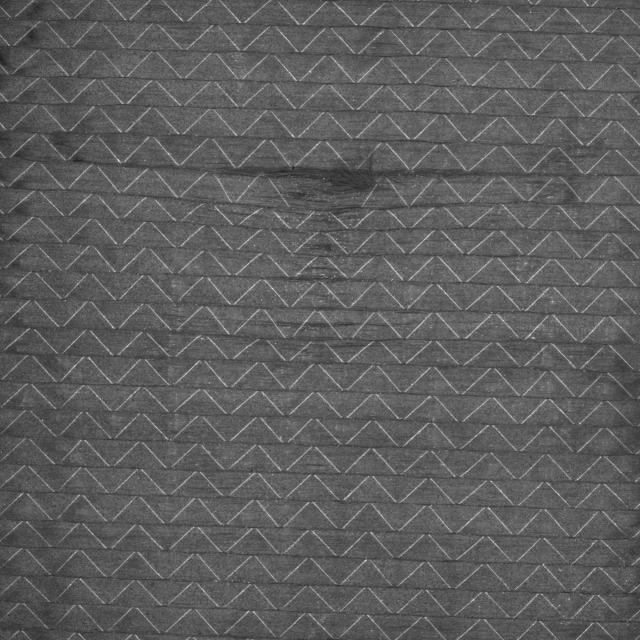carbon-fibre-defect: (206, 140, 447, 208), (247, 309, 412, 342), (297, 253, 351, 309), (295, 208, 356, 254)
